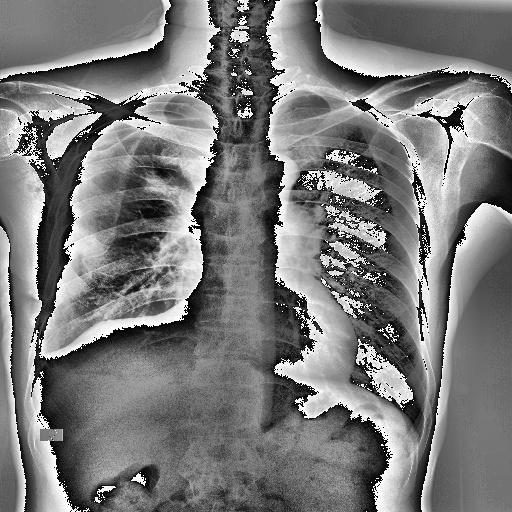1- Atelectasis: (34, 281, 206, 381)
10- Pleural effusion: (38, 344, 53, 370)
11- Pleural thickening: (38, 344, 53, 370), (276, 100, 291, 115)
12- Pneumothorax: (86, 88, 220, 152), (90, 92, 220, 152), (88, 92, 216, 150)
13- Pulmonary fibrosis: (128, 162, 180, 199)
6- Infiltration: (78, 242, 140, 276), (140, 168, 186, 194)
7- Lung Opacity: (128, 162, 180, 199)
9- Other lesion: (34, 281, 206, 381), (58, 261, 234, 358), (70, 315, 138, 342)
